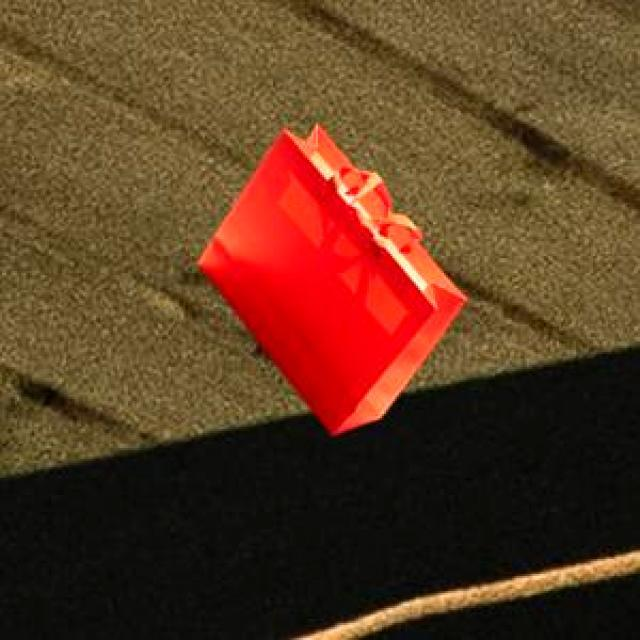Paper_Bag: (195, 122, 464, 432)
